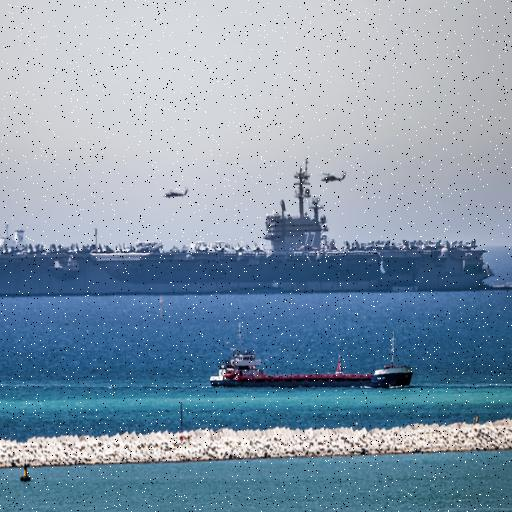Portanaves: (1, 159, 501, 304)
